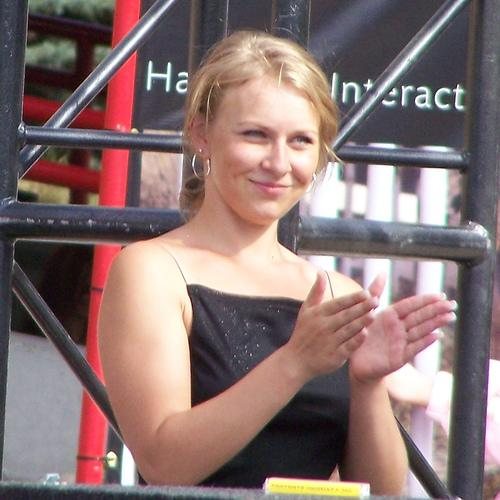person: (98, 30, 461, 497)
